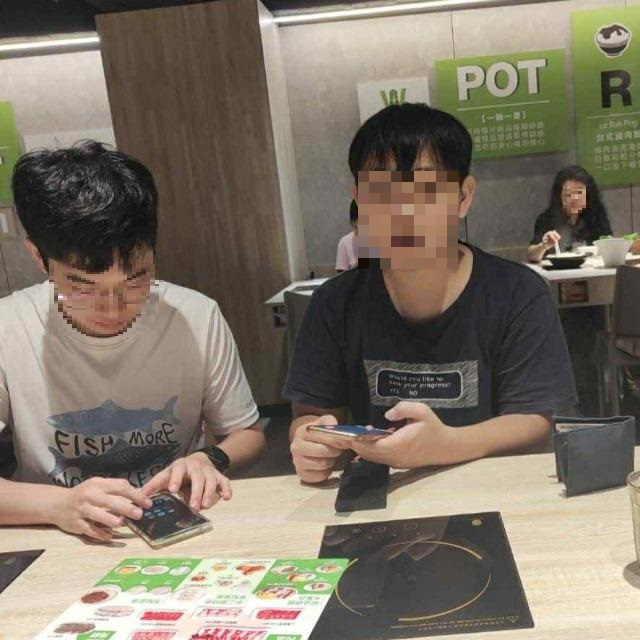NoHelmet: (12, 143, 169, 328), (347, 104, 473, 271)
